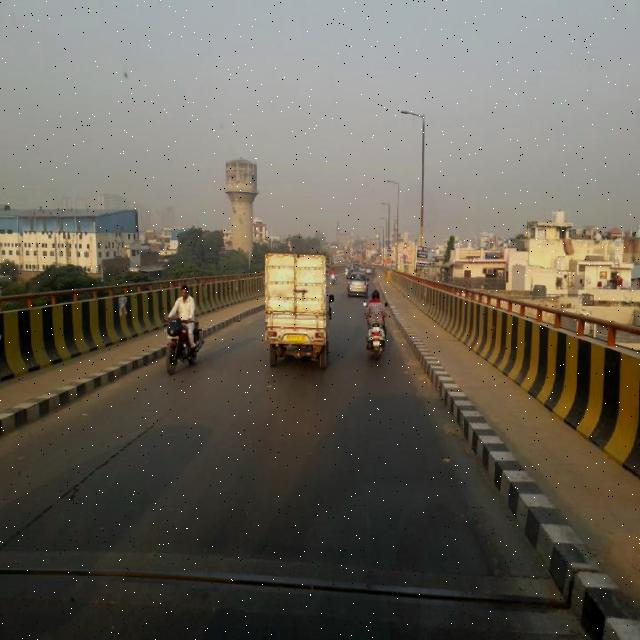D00: (21, 402, 175, 540)
